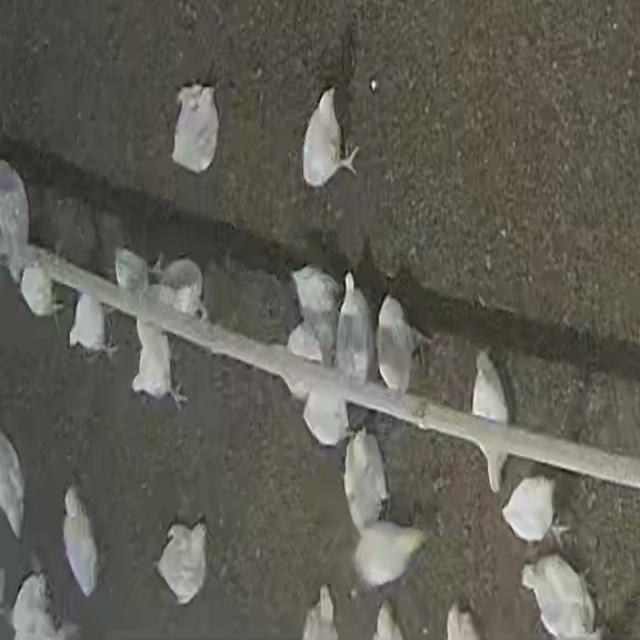chicken: (520, 554, 600, 640), (166, 80, 225, 178), (470, 351, 510, 495), (341, 430, 391, 530), (300, 88, 349, 189), (155, 520, 211, 604), (352, 522, 423, 588), (501, 467, 560, 540), (64, 486, 97, 597), (290, 266, 334, 347), (377, 296, 413, 394), (337, 272, 369, 381), (0, 160, 28, 282), (135, 330, 172, 403), (300, 390, 351, 441), (160, 257, 203, 317), (68, 295, 110, 354), (286, 328, 320, 400), (0, 434, 23, 537), (298, 587, 342, 640), (13, 570, 48, 634), (114, 249, 148, 303), (23, 269, 55, 316)
